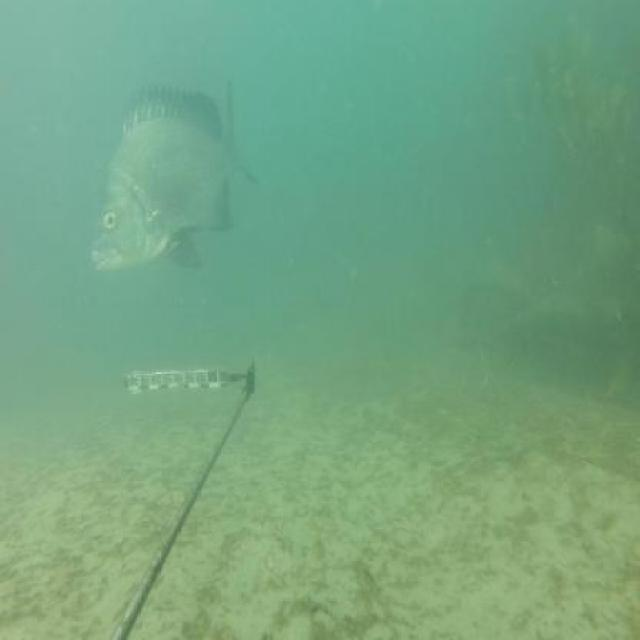acanthopagrus_palmaris: (88, 77, 262, 275)
